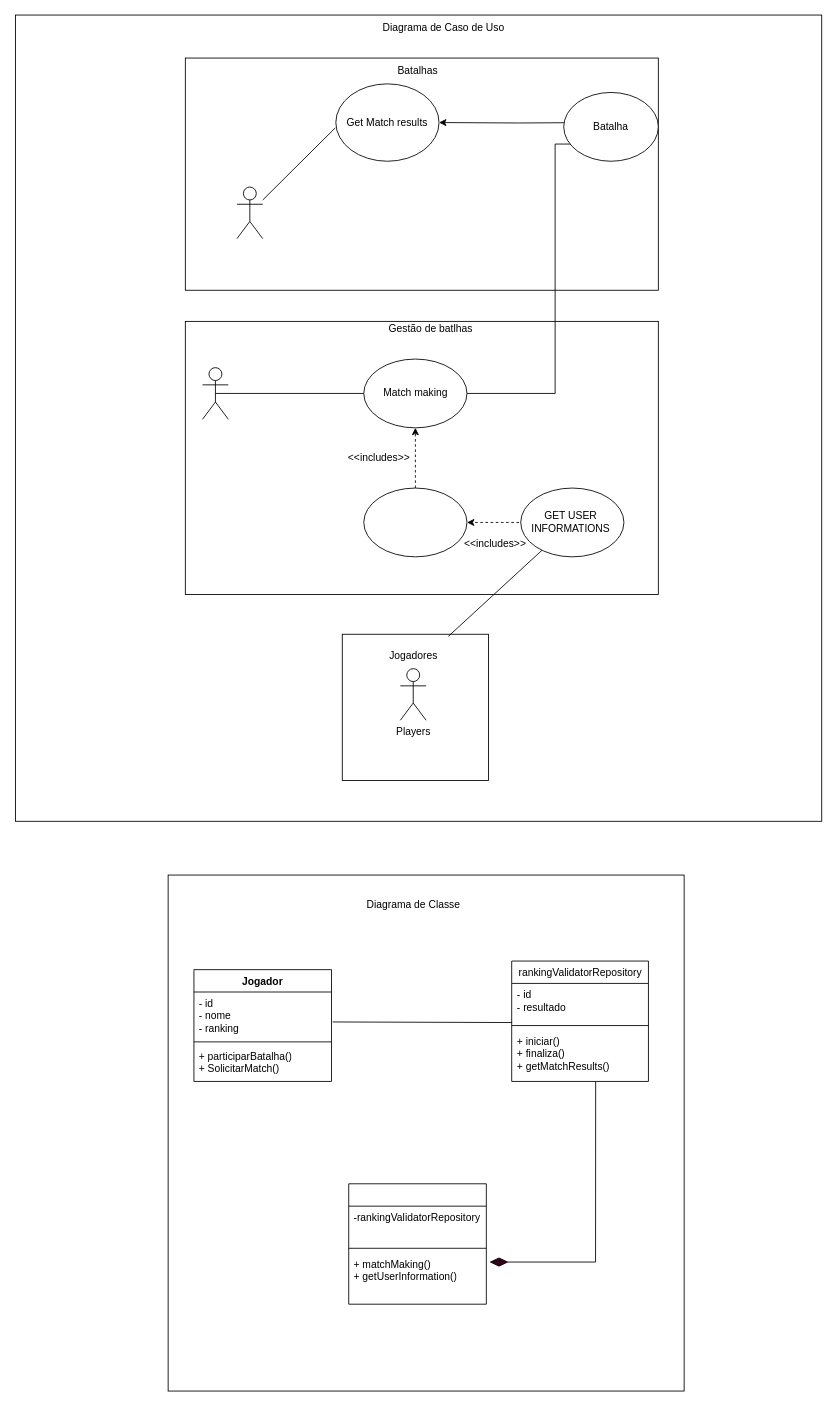
Image size: 837x1423. Some labels were removed from this diagram. Here are the shapes that lost their labels. From the top down, the box of each, then its label:
(236, 186, 263, 239): Database with results
(202, 367, 228, 419): Player
(363, 487, 467, 557): Ranking validator
(348, 1183, 486, 1304): gestaoBatalhaControler
